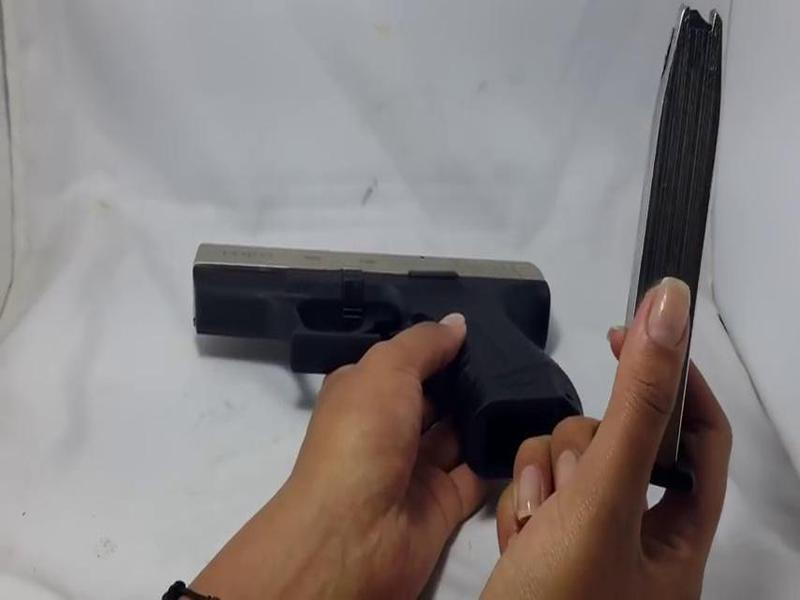Pistola: (177, 229, 583, 469)
